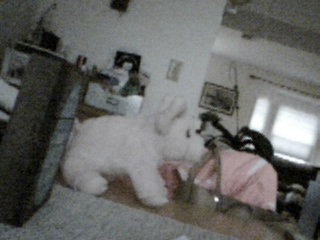piggy: (58, 92, 206, 209)
